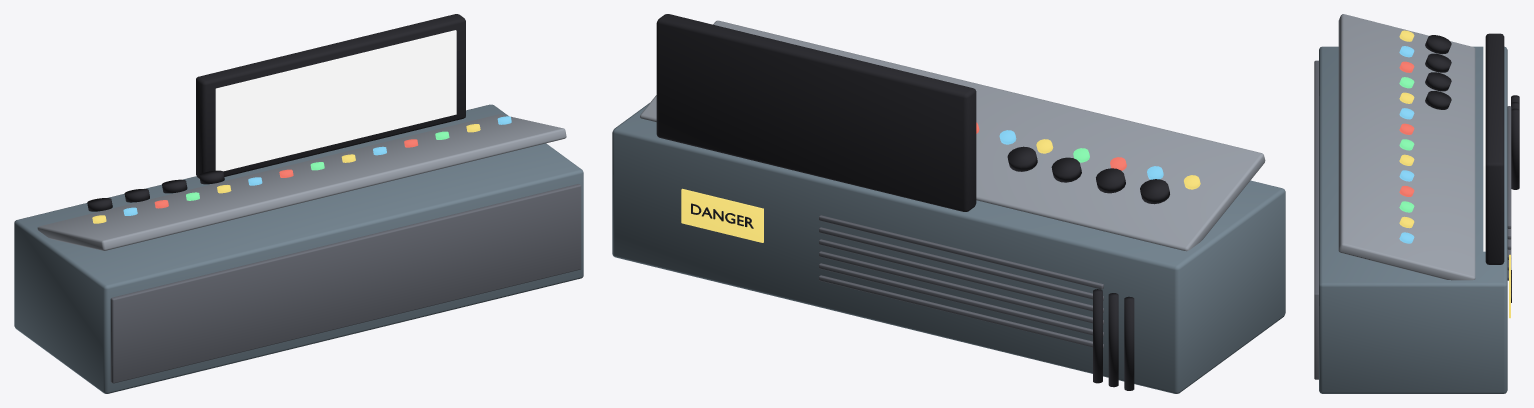
The model's file is console.glb.
The picture shows the model from 3 angles, left to right: view 1: azimuth 30°, elevation 25°; view 2: azimuth 150°, elevation 25°; view 3: azimuth 270°, elevation 25°; orthographic projection. The views are drawn at different scales.
Visible parts, largest first — view 1: Cube, Cube.001, Cube.011, Cube.002, Cube.010; view 2: Cube, Cube.010, Cube.002, Cube.009, Cube.008, Cube.003, Cube.005, Cube.006, Cube.007, Cube.004, Cone.032, Cone.033 (+5 smaller); view 3: Cube, Cube.002, Cube.010, Cube.001, Cone.034, Cube.011, Cube.008, Cone.029, Cone.030, Cone.028, Cone.031.
Part boxes in pixels (left/top/right/bottom): Cube: left=14, top=104, right=583, bottom=393; Cube.001: left=110, top=184, right=581, bottom=383; Cube.011: left=215, top=30, right=456, bottom=171; Cube.002: left=37, top=114, right=566, bottom=250; Cube.010: left=196, top=14, right=465, bottom=178; Cube: left=612, top=103, right=1285, bottom=393; Cube.010: left=656, top=14, right=976, bottom=211; Cube.002: left=640, top=20, right=1265, bottom=251; Cube.009: left=681, top=188, right=763, bottom=242; Cube.008: left=819, top=215, right=1103, bottom=289; Cube.003: left=819, top=275, right=1103, bottom=348; Cube.005: left=819, top=251, right=1103, bottom=324; Cube.006: left=819, top=239, right=1103, bottom=312; Cube.007: left=819, top=227, right=1103, bottom=300; Cube.004: left=819, top=263, right=1103, bottom=336; Cone.032: left=1124, top=296, right=1134, bottom=390; Cone.033: left=1108, top=293, right=1118, bottom=387; Cube: left=1319, top=46, right=1507, bottom=393; Cube.002: left=1338, top=14, right=1475, bottom=280; Cube.010: left=1485, top=33, right=1504, bottom=264; Cube.001: left=1314, top=60, right=1318, bottom=379; Cone.034: left=1511, top=108, right=1519, bottom=189; Cube.011: left=1483, top=46, right=1485, bottom=251; Cube.008: left=1507, top=106, right=1511, bottom=228; Cone.029: left=1425, top=53, right=1451, bottom=72; Cone.030: left=1425, top=72, right=1451, bottom=91; Cone.028: left=1425, top=35, right=1451, bottom=54; Cone.031: left=1425, top=91, right=1451, bottom=109.
Bounding box in the file's own units: 180 × 75 × 65.4.
